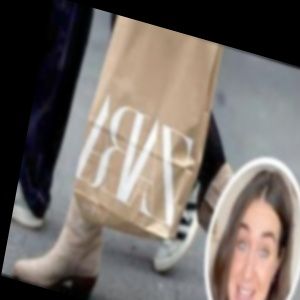zara: (165, 76, 232, 173)
